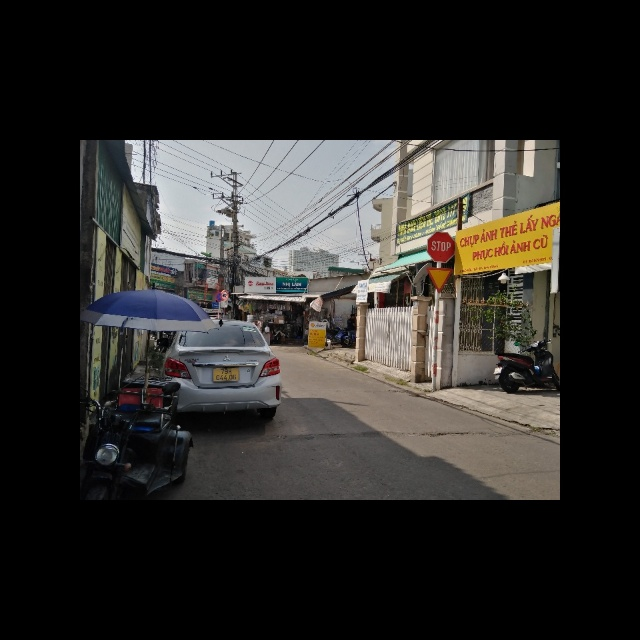Dừng lại: (424, 230, 455, 262)
Giao nhau với đường ưu tiên: (425, 266, 454, 293)
